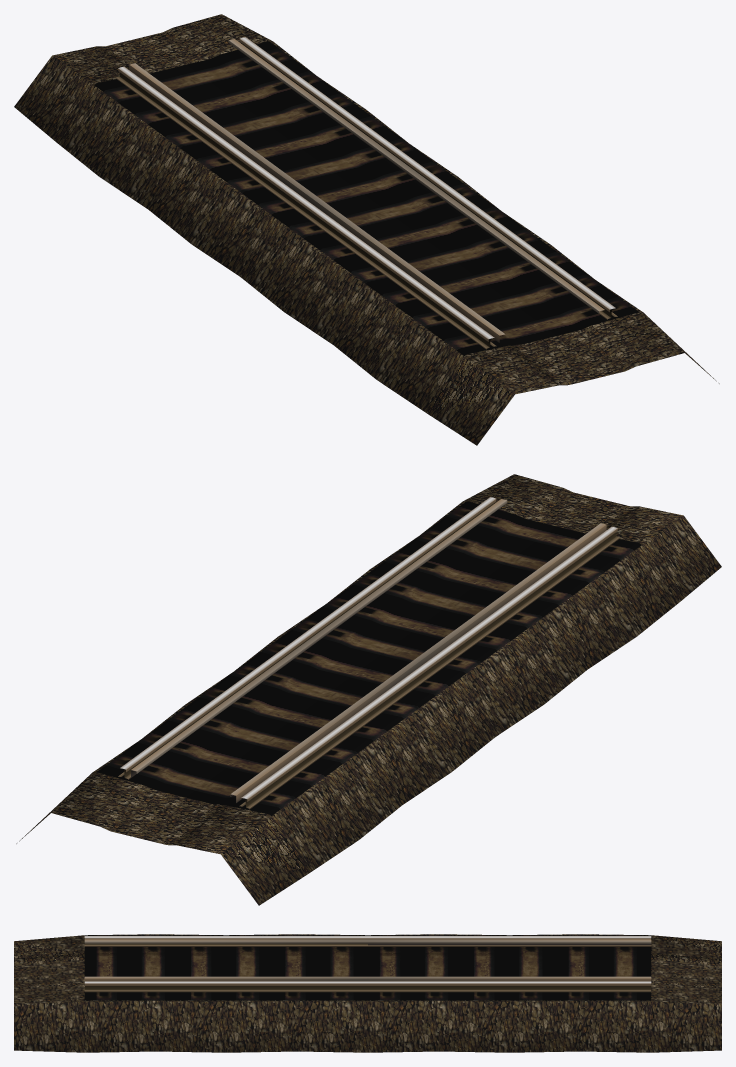
File: KIN_1RAIL_25.glb
3 views of the same model, one above another, from view 1: azimuth 30°, elevation 25°; view 2: azimuth 150°, elevation 25°; view 3: azimuth 270°, elevation 25° (orthographic). The views are drawn at different scales.
Parts seen in each view (by area): view 1: obj3, R000_RG_R2, R000_RG_L2; view 2: obj3, R000_RG_R2, R000_RG_L2; view 3: obj3, R000_RG_R2, R000_RG_L2.
Part boxes in pixels (x1,y1,x2,y2): obj3: [14, 14, 719, 445]; R000_RG_R2: [129, 63, 504, 342]; R000_RG_L2: [228, 39, 604, 313]; obj3: [16, 474, 721, 905]; R000_RG_R2: [230, 523, 606, 802]; R000_RG_L2: [131, 499, 507, 777]; obj3: [14, 934, 721, 1052]; R000_RG_R2: [84, 939, 651, 945]; R000_RG_L2: [84, 976, 651, 981].
Size of the model in its own units: 10.07 by 2.21 by 31.25.
Materials: 6 (5 with a texture image).
